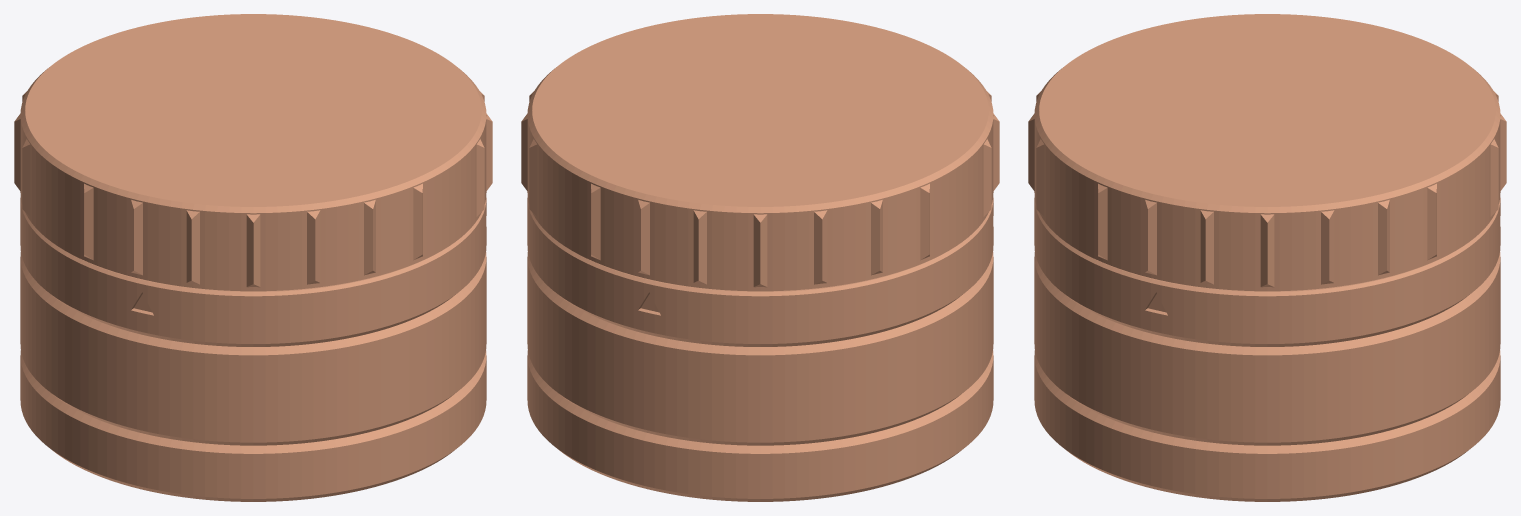
The model's file is bayonet-box_final.glb.
The picture shows the model from 3 angles, left to right: view 1: azimuth 30°, elevation 25°; view 2: azimuth 150°, elevation 25°; view 3: azimuth 270°, elevation 25°; orthographic projection.
Parts seen in each view (by area): view 1: SM_BayonetBox_Lid, SM_BayonetBox_Base; view 2: SM_BayonetBox_Lid, SM_BayonetBox_Base; view 3: SM_BayonetBox_Lid, SM_BayonetBox_Base.
Part boxes in pixels (bbox=[...]): SM_BayonetBox_Lid: bbox=[14, 14, 492, 291]; SM_BayonetBox_Base: bbox=[20, 198, 486, 501]; SM_BayonetBox_Lid: bbox=[521, 14, 999, 291]; SM_BayonetBox_Base: bbox=[527, 198, 993, 501]; SM_BayonetBox_Lid: bbox=[1028, 14, 1506, 291]; SM_BayonetBox_Base: bbox=[1034, 198, 1500, 501].
Size of the model in its own units: 0.0608 by 0.042 by 0.0616.
